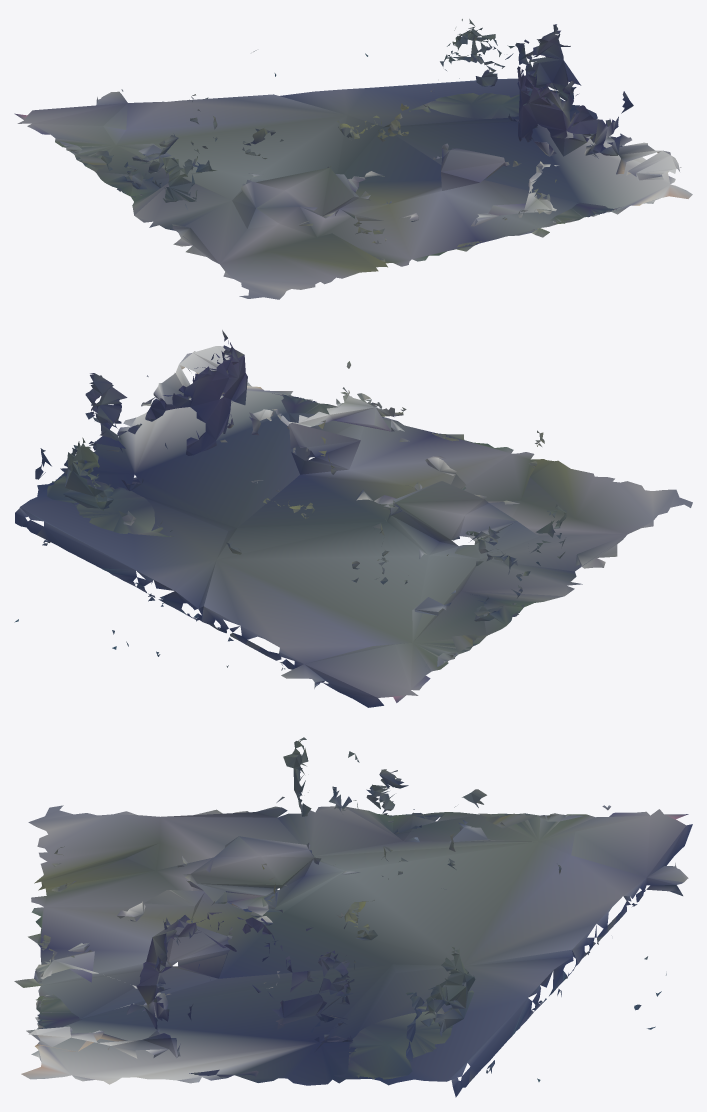
3 renders of one model, top to bottom at view 1: azimuth 30°, elevation 25°; view 2: azimuth 150°, elevation 25°; view 3: azimuth 270°, elevation 25°, orthographic. The views are drawn at different scales.
Size of the model in its own units: 108 by 26.14 by 109.
